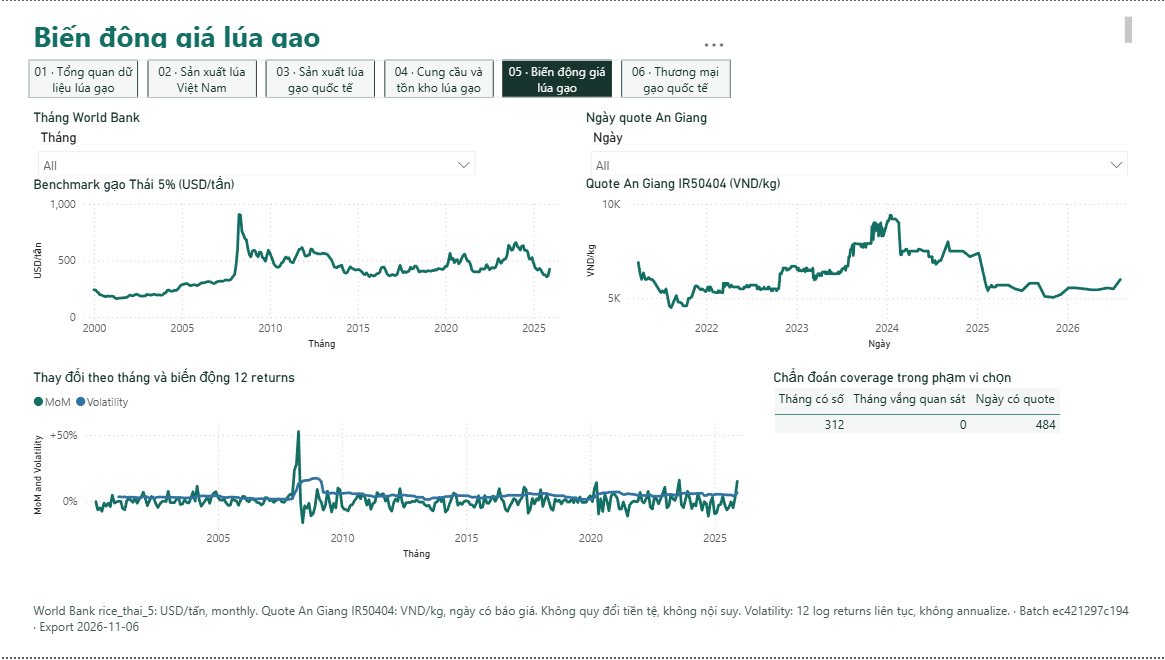

Layout of this report page (visuals, bound fields, positions):
{"tool":"powerbi","page":{"name":"05 · Biến động giá lúa gạo","canvas":[1280,720],"ordinal":4},"visuals":[{"type":"textbox","box":[32,12,1216,44],"z":1},{"type":"pageNavigator","box":[32,64,770,42],"z":2},{"type":"slicer","title":"Tháng World Bank","fields":{"Values":["BenchmarkMonth.Date"]},"box":[32,120,500,72],"z":3},{"type":"slicer","title":"Ngày quote An Giang","fields":{"Values":["QuoteDate.Date"]},"box":[638,120,610,72],"z":4},{"type":"lineChart","title":"Benchmark gạo Thái 5% (USD/tấn)","fields":{"Category":["BenchmarkMonth.Date"],"Y":["Overview.WB Price"]},"box":[32,192,590,195],"z":5},{"type":"lineChart","title":"Quote An Giang IR50404 (VND/kg)","fields":{"Category":["QuoteDate.Date"],"Y":["Overview.Domestic Quote"]},"box":[638,192,610,195],"z":6},{"type":"lineChart","title":"Thay đổi theo tháng và biến động 12 returns","fields":{"Category":["BenchmarkMonth.Date"],"Y":["Overview.WB MoM","Overview.WB Volatility"]},"box":[32,404,796,215],"z":7},{"type":"tableEx","title":"Chẩn đoán coverage trong phạm vi chọn","fields":{"Values":["Overview.WB Numeric Months","Overview.WB Absent Months","Overview.Domestic Quoted Dates"]},"box":[844,404,404,215],"z":8},{"type":"textbox","box":[32,654,1216,56],"z":90}]}

Visuals, with their boxes in screenshot pixels (x1, y1, x2, y2), scaled from the page's 1280x720 canvas onto the 1165x660 screenshot:
textbox: 29/11/1136/51
pageNavigator: 29/59/730/97
"Tháng World Bank" slicer: 29/110/484/176
"Ngày quote An Giang" slicer: 581/110/1136/176
"Benchmark gạo Thái 5% (USD/tấn)" lineChart: 29/176/566/355
"Quote An Giang IR50404 (VND/kg)" lineChart: 581/176/1136/355
"Thay đổi theo tháng và biến động 12 returns" lineChart: 29/370/754/567
"Chẩn đoán coverage trong phạm vi chọn" tableEx: 768/370/1136/567
textbox: 29/600/1136/651
